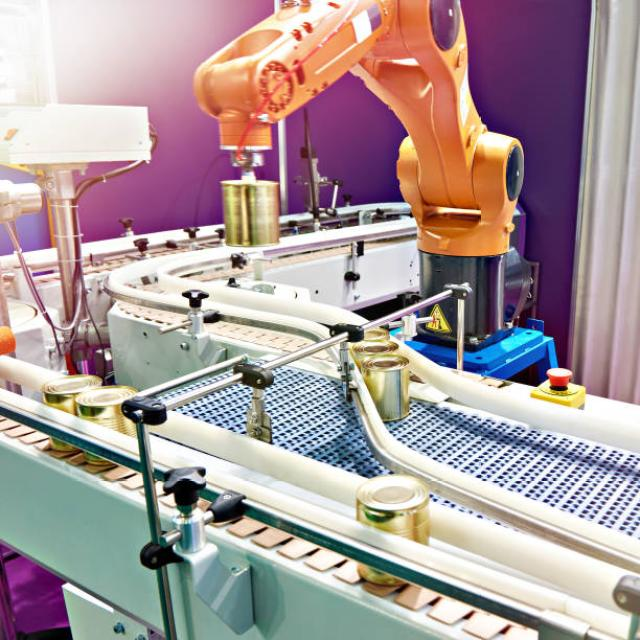Robotic-arm: (178, 0, 536, 329)
